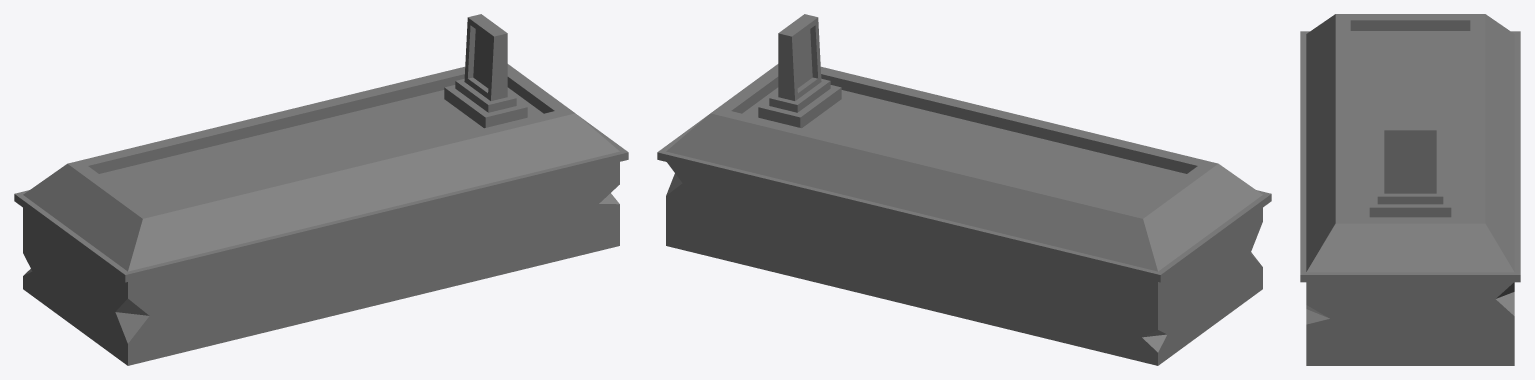
The model's file is stone_tomb2.fbx.
The picture shows the model from 3 angles, left to right: view 1: azimuth 30°, elevation 25°; view 2: azimuth 150°, elevation 25°; view 3: azimuth 270°, elevation 25°; orthographic projection.
Visible parts, largest first — view 1: stone_tomb2; view 2: stone_tomb2; view 3: stone_tomb2.
Part boxes in pixels (left/top/right/bottom): stone_tomb2: left=14, top=14, right=628, bottom=365; stone_tomb2: left=657, top=14, right=1271, bottom=365; stone_tomb2: left=1300, top=14, right=1520, bottom=365.
Bounding box in the file's own units: 338 × 130 × 129.
